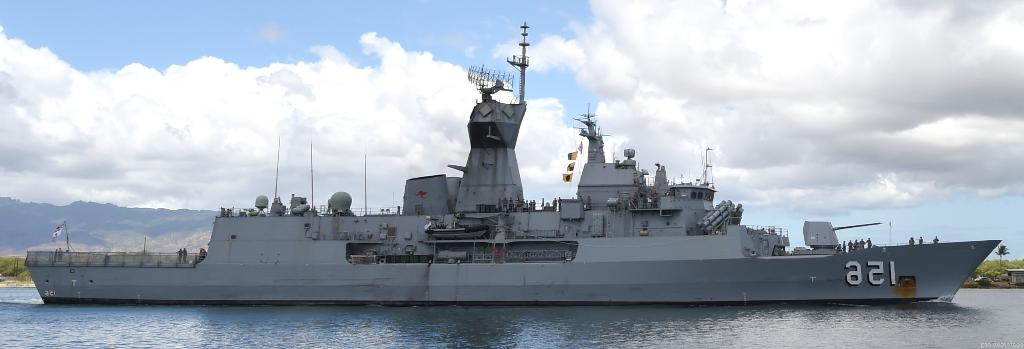Warship: (23, 20, 1003, 312)
